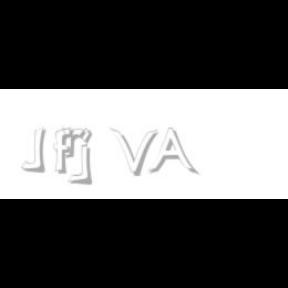A: (148, 128, 196, 176)
J: (20, 128, 46, 172)
V: (110, 128, 158, 176)
f: (53, 128, 77, 174)
j: (78, 128, 106, 186)
r: (62, 128, 88, 158)
